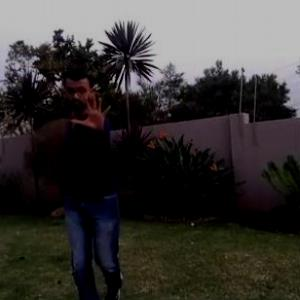follow_hand: (70, 90, 115, 132)
